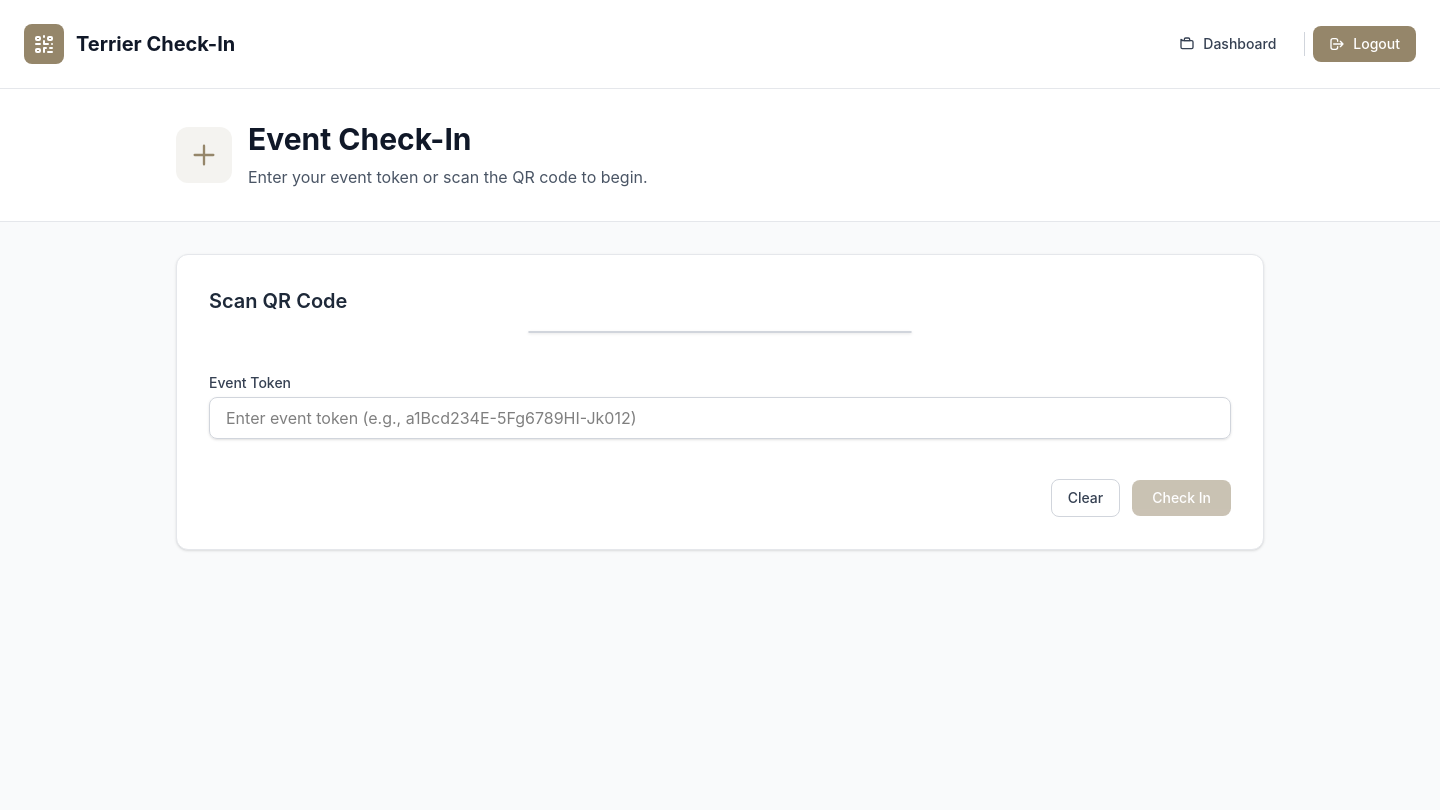
Test: CheckInStart Enhanced Coverage › shows error when URL has no token parameter
Type "https://example.com/checkin?other=param" into the field at (720, 418), box [209, 397, 1231, 439]
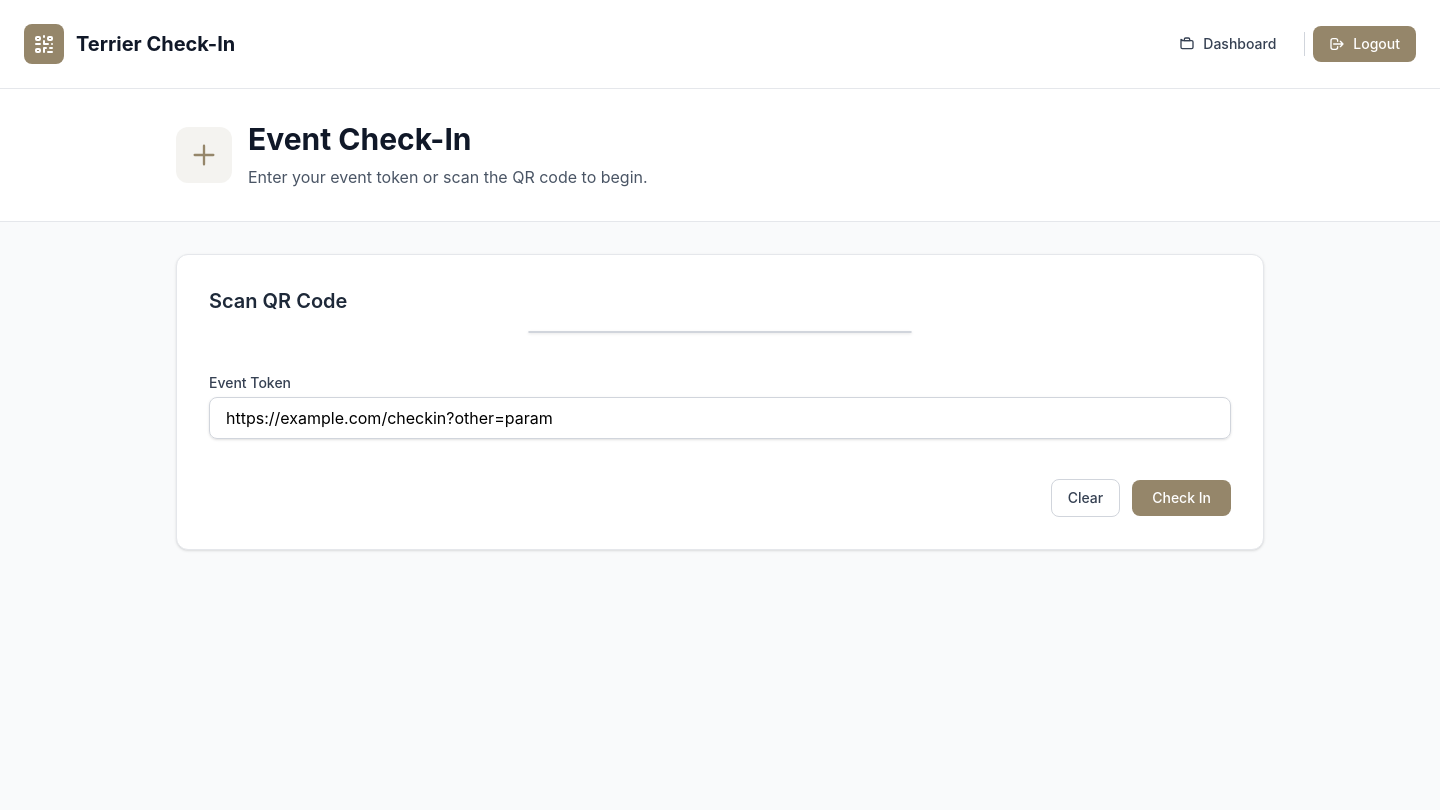
Click the button "Check In" at (1182, 498), box [1132, 480, 1231, 516]
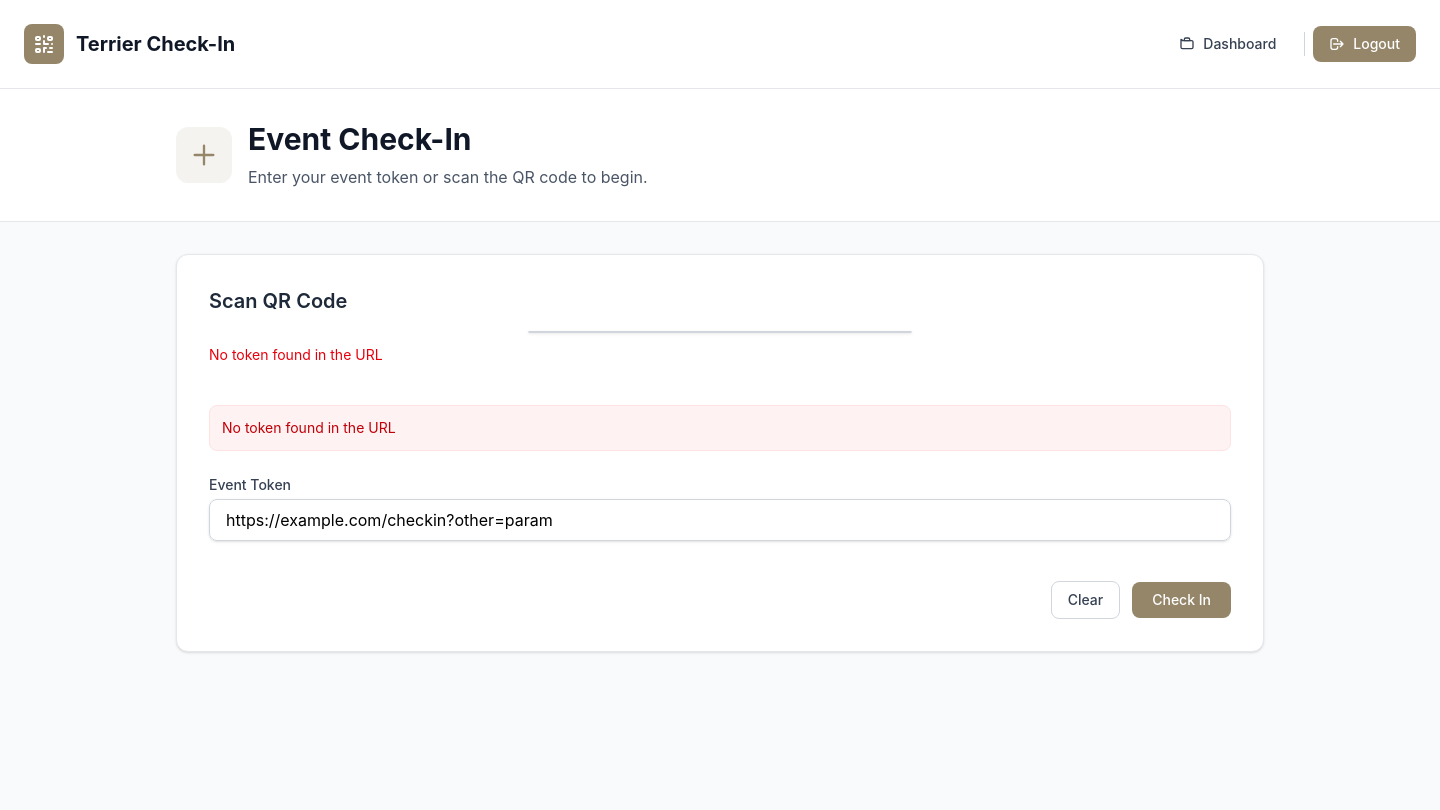
Check: the text "No token found in the URL" below "Scan QR Code" is shown, box [209, 346, 383, 363]
